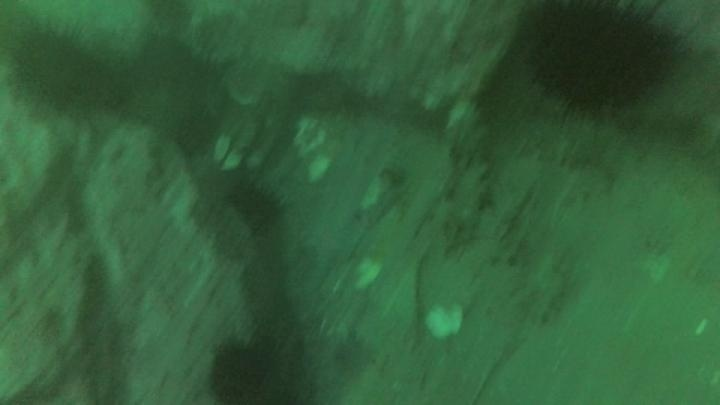echinus: (515, 2, 686, 121), (6, 20, 112, 116), (204, 333, 295, 404), (224, 175, 287, 234)
holothurian: (432, 100, 495, 246)
